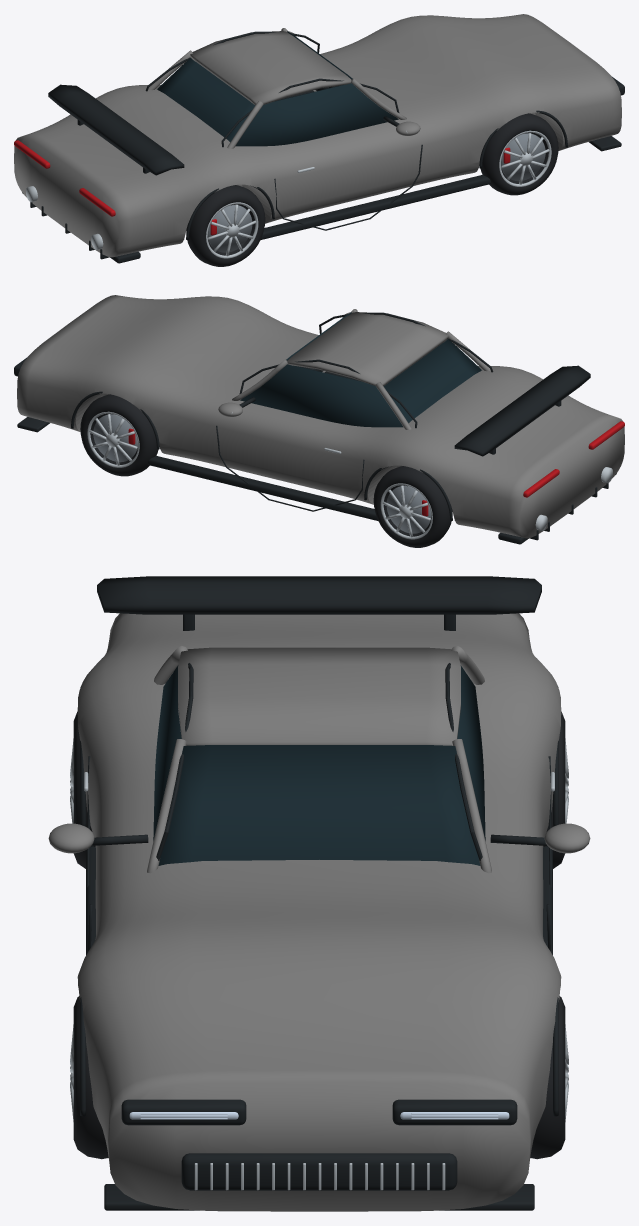
The model's file is asset.glb.
The picture shows the model from 3 angles, top to bottom: view 1: azimuth 30°, elevation 25°; view 2: azimuth 150°, elevation 25°; view 3: azimuth 270°, elevation 25°; orthographic projection. The views are drawn at different scales.
Parts seen in each view (by area): view 1: chassis, roof, side_glass_left, rear_spoiler, rear_glass, tyre_rear_left, tyre_front_left, sill_left, brake_rear_left, brake_front_left, rim_rear_left, rim_front_left (+5 smaller); view 2: chassis, roof, side_glass_right, rear_spoiler, rear_glass, tyre_rear_right, tyre_front_right, sill_right, brake_rear_right, brake_front_right, rim_rear_right, rim_front_right (+5 smaller); view 3: chassis, windshield, roof, rear_spoiler, front_grille, headlamp_surround_left, headlamp_surround_right, tyre_front_left, tyre_front_right, side_glass_left, side_glass_right, front_splitter (+8 smaller).
Boxes of the visible parts, box(x1,y1,x2,y2) form: chassis: box(14, 14, 621, 257); roof: box(190, 31, 351, 104); side_glass_left: box(235, 83, 398, 146); rear_spoiler: box(48, 84, 184, 175); rear_glass: box(158, 58, 255, 142); tyre_rear_left: box(186, 185, 265, 266); tyre_front_left: box(480, 113, 558, 195); sill_left: box(261, 174, 490, 239); brake_rear_left: box(207, 205, 252, 252); brake_front_left: box(501, 133, 545, 181); rim_rear_left: box(206, 202, 258, 258); rim_front_left: box(499, 130, 551, 186); chassis: box(17, 295, 624, 538); roof: box(287, 312, 448, 385); side_glass_right: box(240, 364, 403, 427); rear_spoiler: box(454, 365, 590, 456); rear_glass: box(383, 339, 480, 423); tyre_rear_right: box(373, 466, 452, 547); tyre_front_right: box(80, 394, 158, 476); sill_right: box(148, 455, 377, 520); brake_rear_right: box(386, 486, 431, 533); brake_front_right: box(93, 414, 137, 462); rim_rear_right: box(380, 483, 432, 539); rim_front_right: box(87, 411, 139, 467); chassis: box(77, 613, 561, 1211); windshield: box(158, 745, 480, 865); roof: box(178, 647, 460, 745); rear_spoiler: box(97, 576, 541, 614); front_grille: box(181, 1153, 457, 1190); headlamp_surround_left: box(121, 1099, 246, 1125); headlamp_surround_right: box(392, 1099, 517, 1125); tyre_front_left: box(73, 996, 108, 1159); tyre_front_right: box(530, 996, 565, 1159); side_glass_left: box(153, 665, 181, 840); side_glass_right: box(457, 665, 485, 840); front_splitter: box(104, 1184, 534, 1210).
Size of the model in its own units: 4.92 by 1.29 by 2.24.
